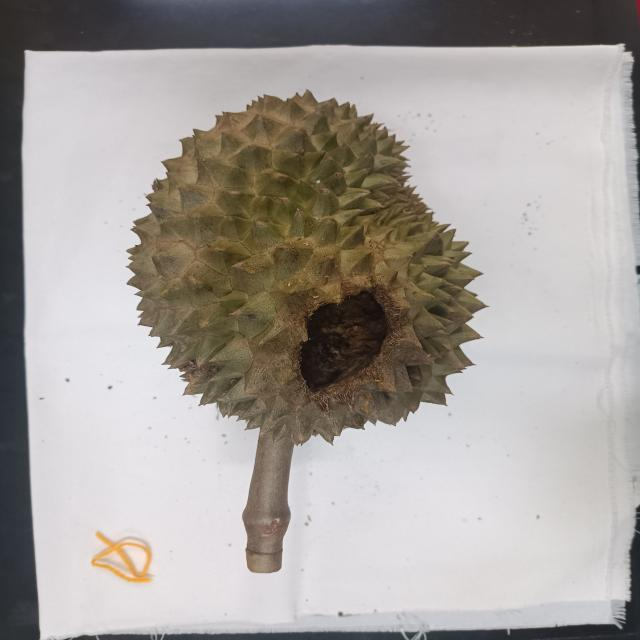defective: (129, 92, 486, 445)
